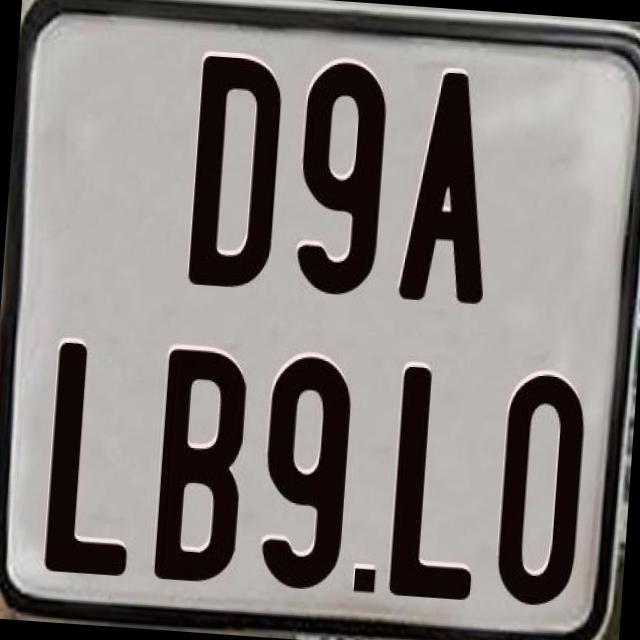0: (492, 372, 590, 612)
9: (292, 56, 392, 296), (254, 354, 352, 590)
A: (396, 65, 500, 306)
B: (151, 346, 251, 582)
D: (185, 56, 287, 290)
L: (41, 340, 147, 583), (383, 366, 482, 602)
